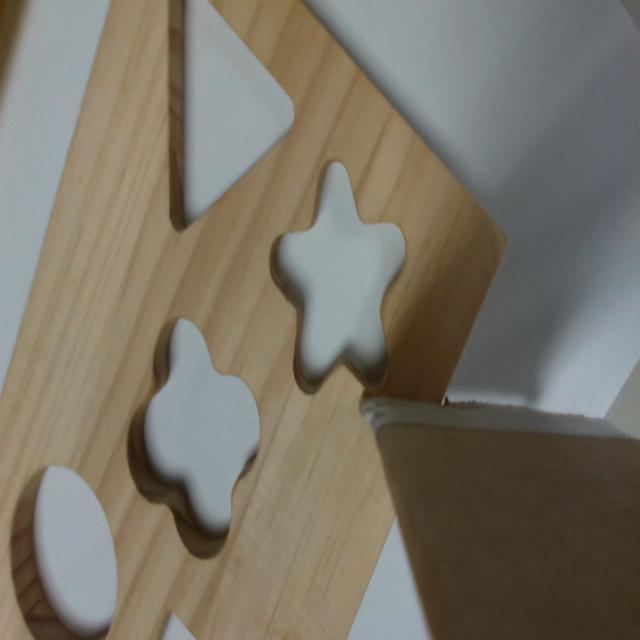circle: (9, 466, 118, 635)
flower: (128, 320, 262, 561)
star: (273, 161, 403, 388)
triangle: (168, 2, 298, 238)
